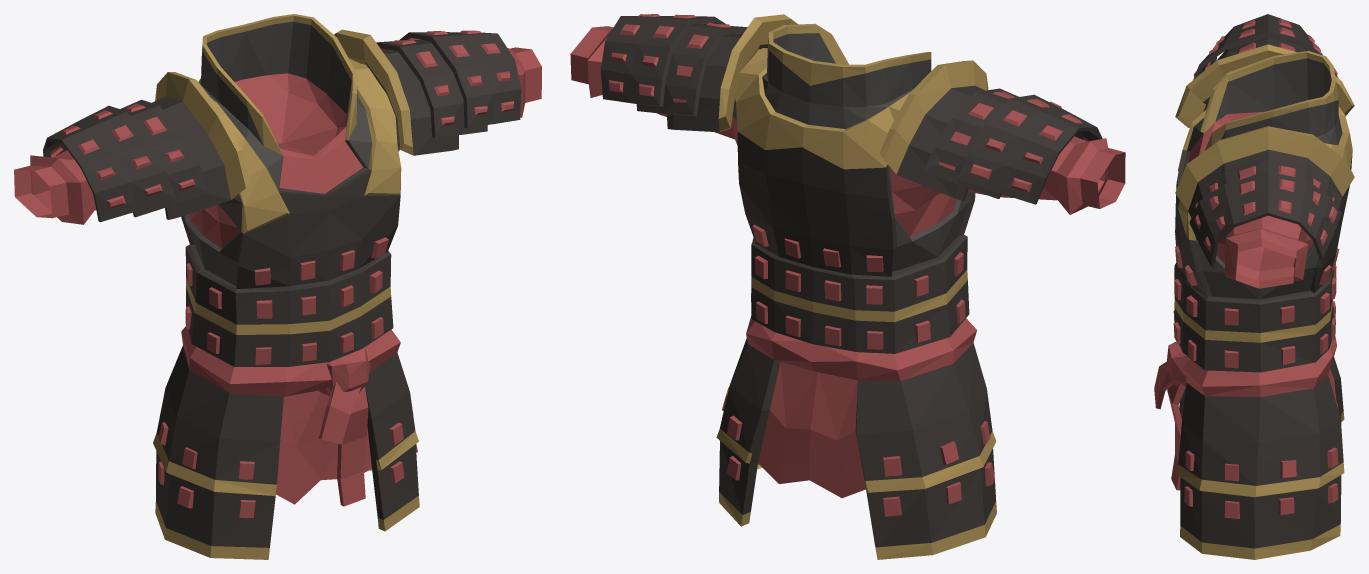
File: armorDragonDisplay.fbx
3 renders of one model, left to right at view 1: azimuth 30°, elevation 25°; view 2: azimuth 150°, elevation 25°; view 3: azimuth 270°, elevation 25°, orthographic. The views are drawn at different scales.
Visible parts, largest first — view 1: armorDragonDisplay; view 2: armorDragonDisplay; view 3: armorDragonDisplay.
Part boxes in pixels (bbox=[...]): armorDragonDisplay: bbox=[14, 14, 541, 559]; armorDragonDisplay: bbox=[570, 14, 1125, 559]; armorDragonDisplay: bbox=[1154, 14, 1354, 559].
Bounding box in the file's own units: 1.78 × 1.57 × 0.6561.
